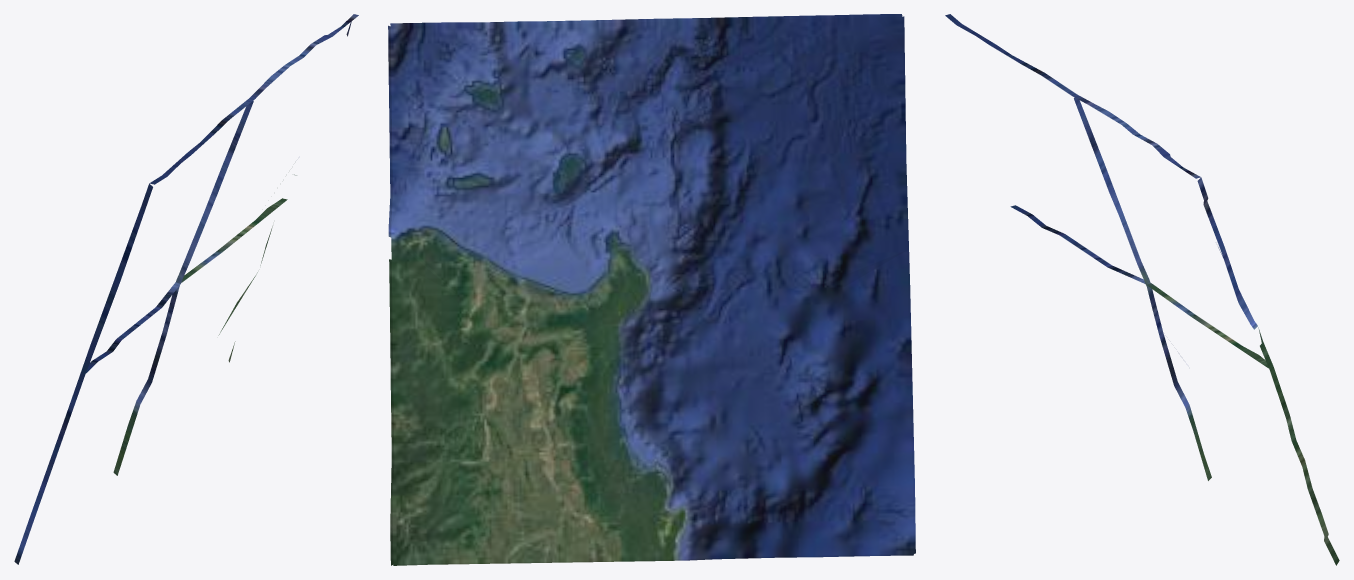
The picture shows the model from 3 angles, left to right: view 1: azimuth 30°, elevation 25°; view 2: azimuth 150°, elevation 25°; view 3: azimuth 270°, elevation 25°; orthographic projection. The views are drawn at different scales.
Size of the model in its own units: 307187 by 300799 by 252732.
1 material, 1 textured.
